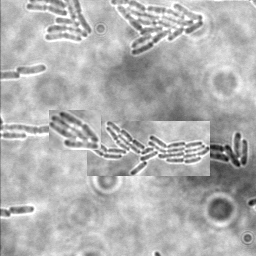Dividing: (1, 114, 95, 133), (214, 10, 251, 29), (8, 204, 35, 215)
Microcolony: (109, 1, 205, 56), (25, 1, 94, 44), (184, 130, 248, 167), (183, 62, 231, 105), (103, 124, 150, 160), (16, 63, 48, 74)
